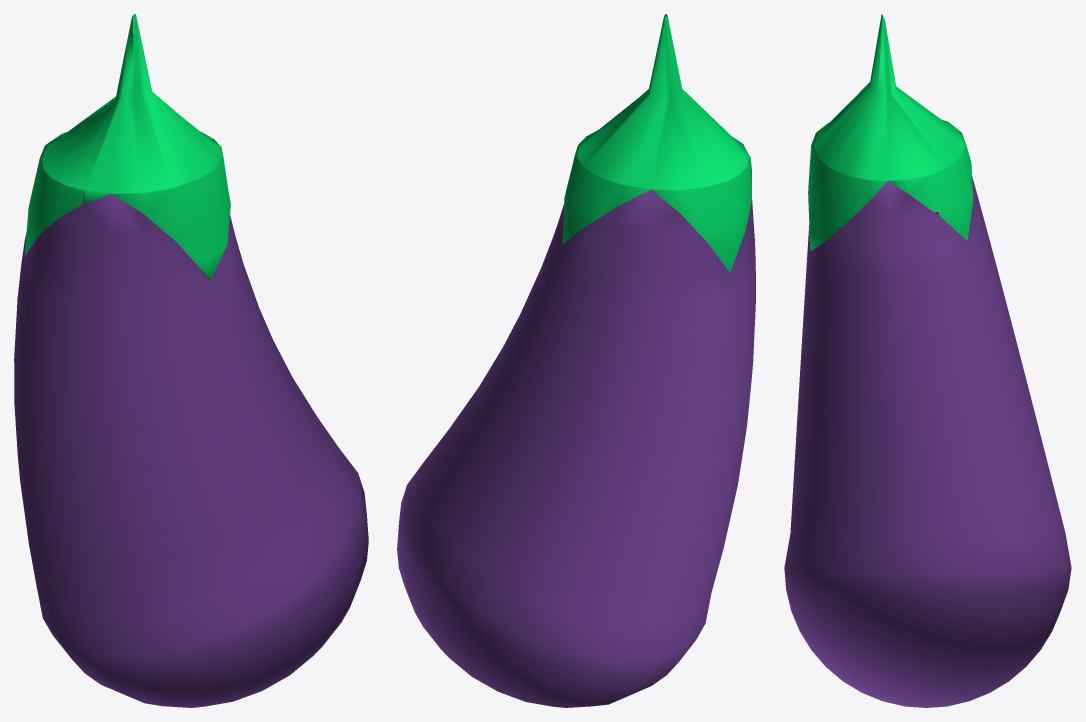
Rendered from melanzana.fbx.
The picture shows the model from 3 angles, left to right: view 1: azimuth 30°, elevation 25°; view 2: azimuth 150°, elevation 25°; view 3: azimuth 270°, elevation 25°; orthographic projection. The views are drawn at different scales.
Visible parts, largest first — view 1: pSphere1; view 2: pSphere1; view 3: pSphere1.
Boxes of the visible parts, x1=… form: pSphere1: x1=14, y1=14, x2=368, y2=707; pSphere1: x1=397, y1=14, x2=755, y2=707; pSphere1: x1=784, y1=14, x2=1071, y2=707.
Bounding box in the file's own units: 1.31 × 2.69 × 1.09.
